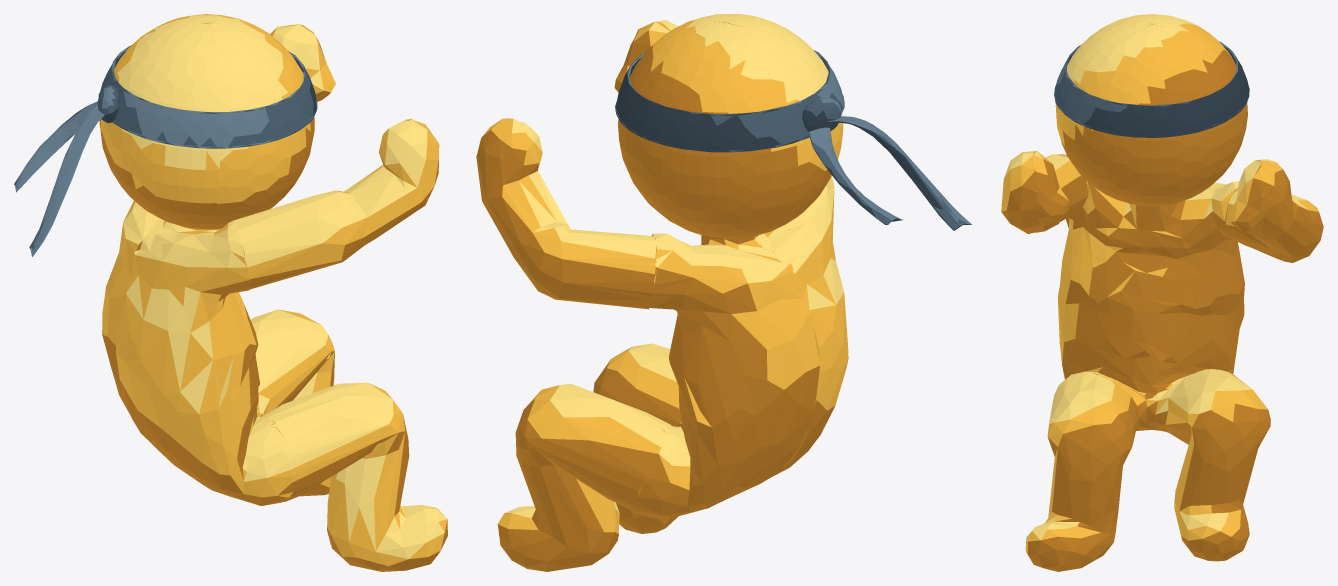
Rendered from Ninja_Air0_R.gltf.
The picture shows the model from 3 angles, left to right: view 1: azimuth 30°, elevation 25°; view 2: azimuth 150°, elevation 25°; view 3: azimuth 270°, elevation 25°; orthographic projection. The views are drawn at different scales.
Parts seen in each view (by area): view 1: Ninja_Air0_R_baked; view 2: Ninja_Air0_R_baked; view 3: Ninja_Air0_R_baked.
Boxes of the visible parts, <box> form: Ninja_Air0_R_baked: <box>14,14,447,571</box>; Ninja_Air0_R_baked: <box>476,14,971,571</box>; Ninja_Air0_R_baked: <box>1001,14,1323,571</box>.
Bounding box in the file's own units: 0.7431 × 1 × 0.6032.
